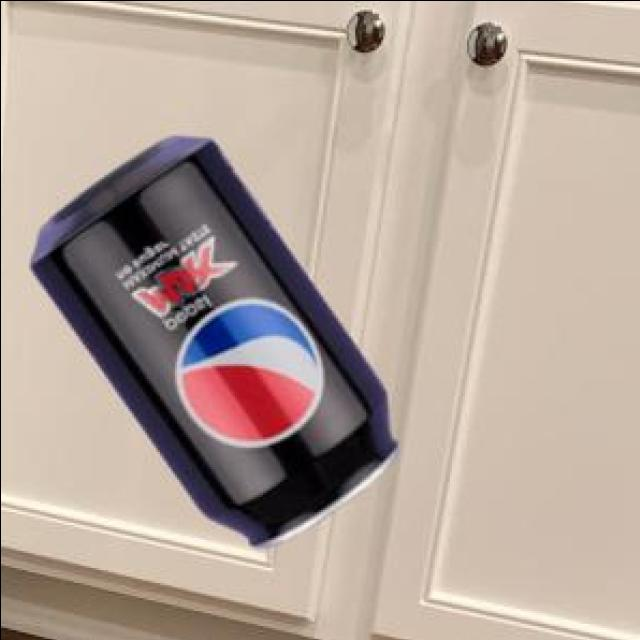logam: (33, 132, 401, 542)
